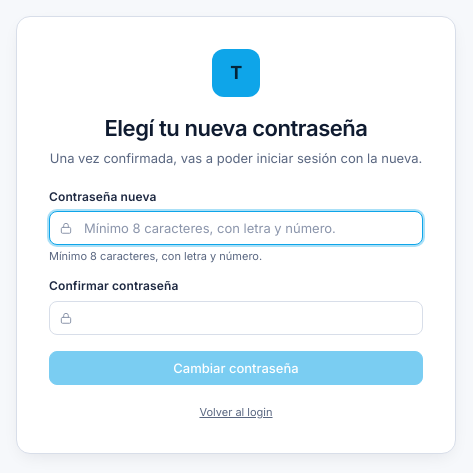
it: ResetPassword › submit OK muestra el success screen y redirige a /login
In the password field labelled "Contraseña nueva": (236, 228) [49,211,423,245], type "MiPass123"
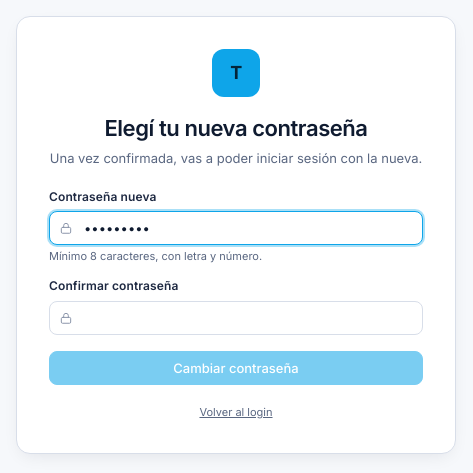
In the password field labelled "Confirmar contraseña": (236, 318) [49,301,423,335], type "MiPass123"
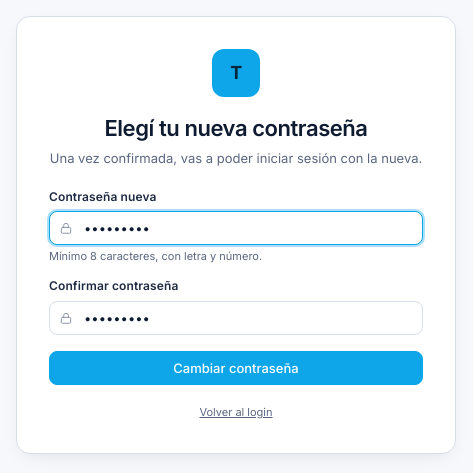
Click the button "Cambiar contraseña": (236, 368) [49,351,423,385]
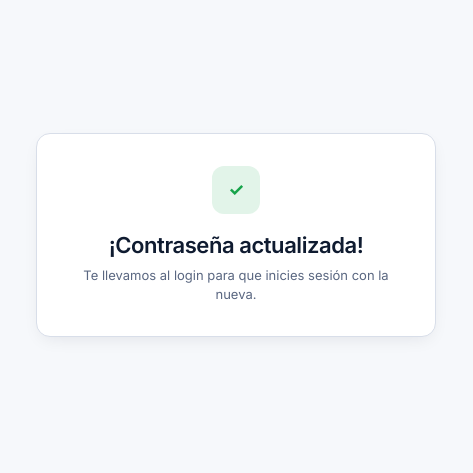
expect the message shows "Contraseña actualizada": met, box [109,232,363,258]
